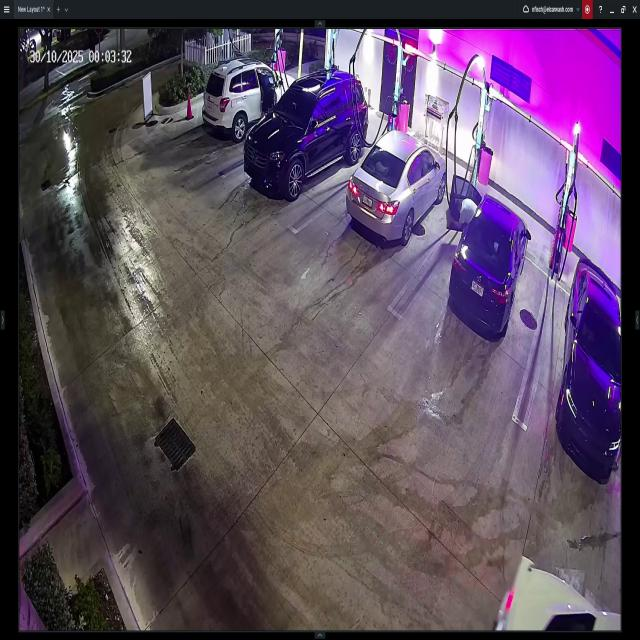Car: (245, 72, 366, 198), (556, 256, 620, 477), (447, 174, 531, 334), (347, 128, 446, 244), (495, 554, 621, 633), (202, 58, 293, 139)
